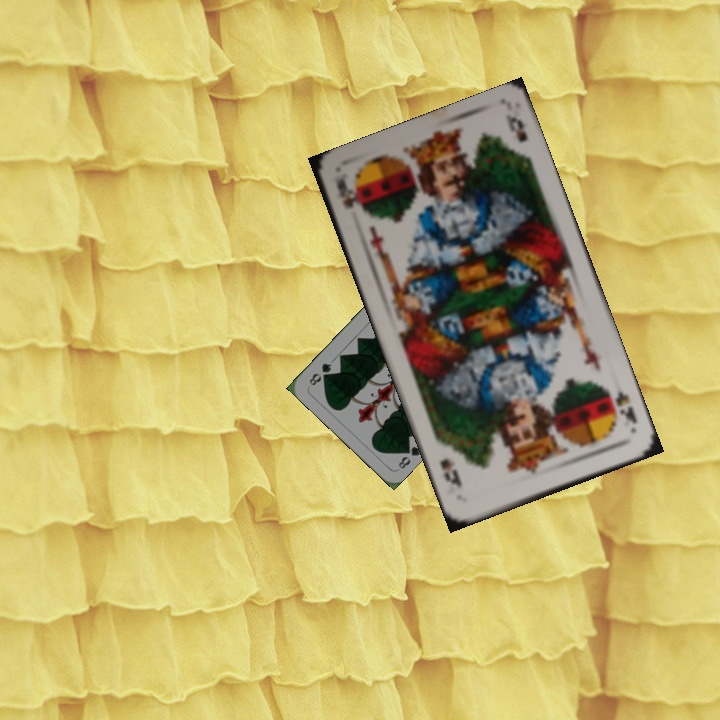G8: (394, 440, 424, 471)
SK: (602, 384, 640, 435), (332, 175, 362, 211)
